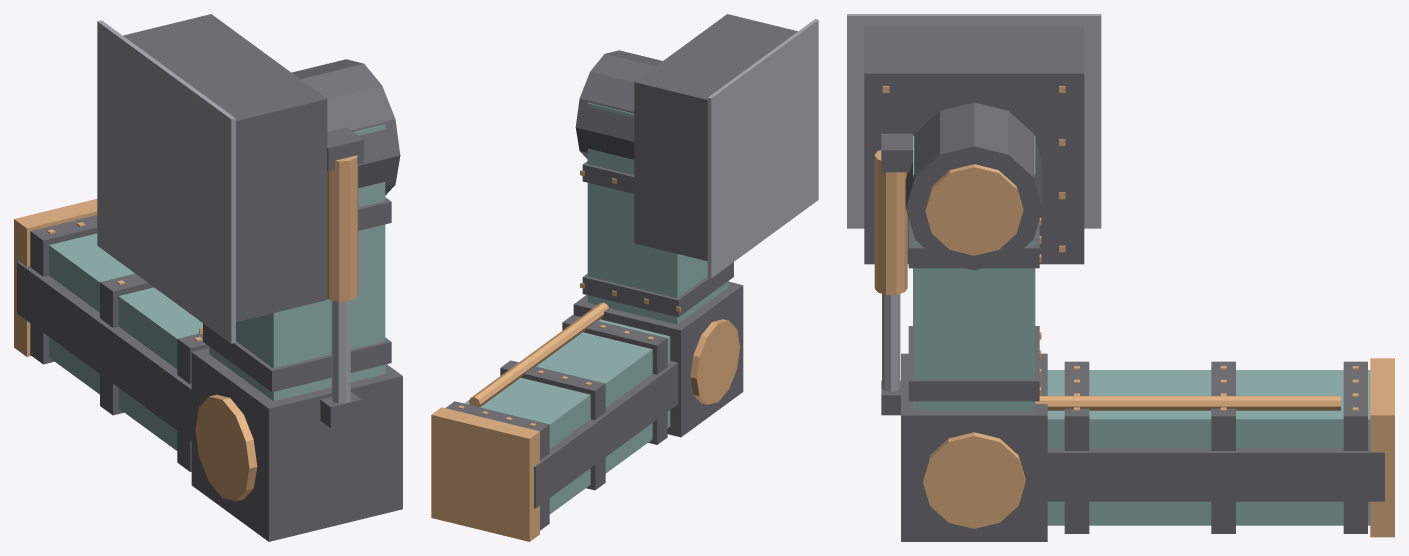
File: drill_arm.glb
3 views of the same model, side by side, from view 1: azimuth 30°, elevation 25°; view 2: azimuth 150°, elevation 25°; view 3: azimuth 270°, elevation 25° (orthographic). The views are drawn at different scales.
Parts seen in each view (by area): view 1: DrillArm; view 2: DrillArm; view 3: DrillArm.
Boxes of the visible parts, <box> form: DrillArm: <box>14,14,402,541</box>; DrillArm: <box>431,14,818,541</box>; DrillArm: <box>847,14,1394,541</box>.
Bounding box in the file's own units: 0.93 × 1.97 × 2.24.
